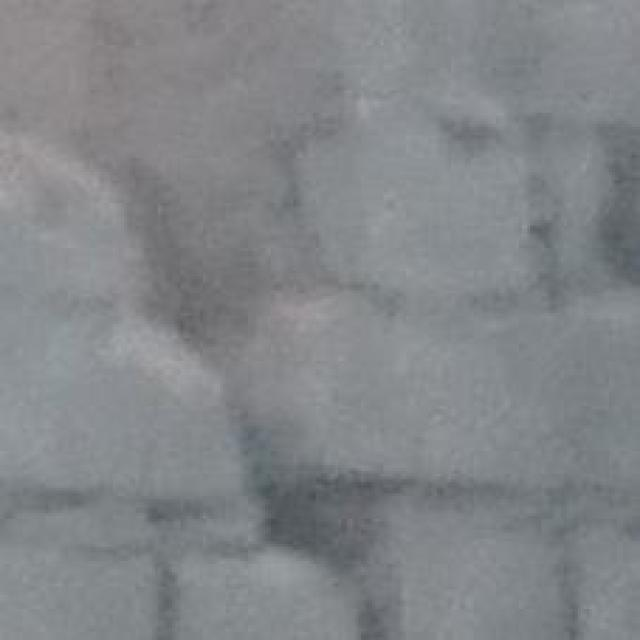Crack: (118, 194, 507, 640)
